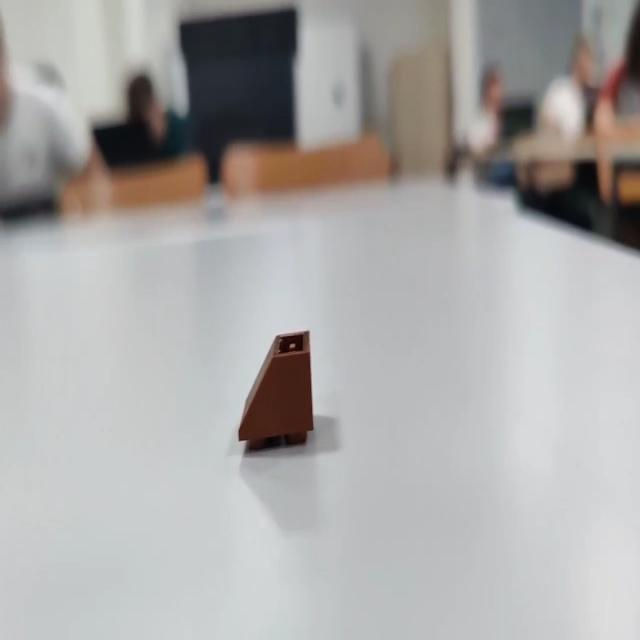X2x2x1: (237, 327, 315, 452)
